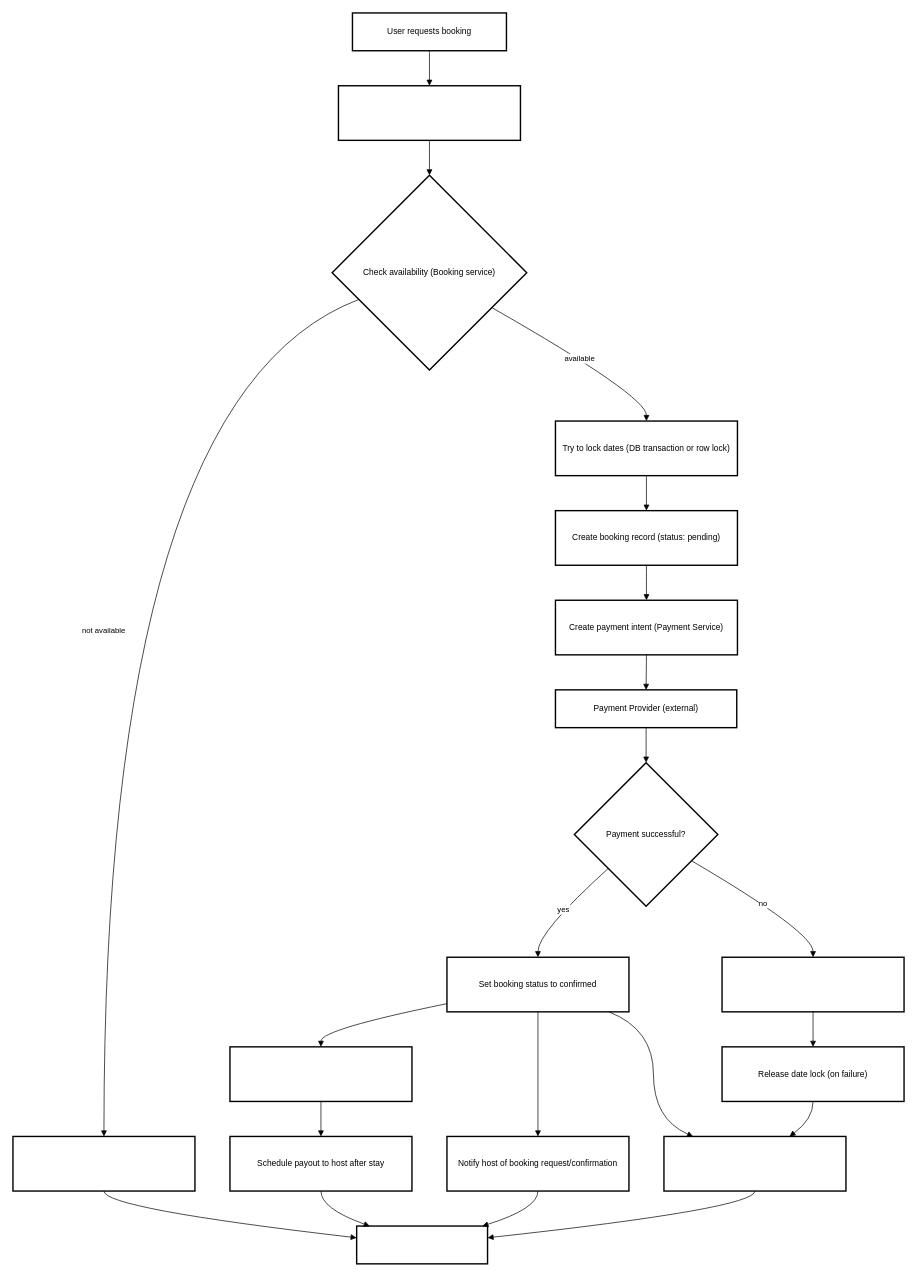
The diagram is 916 pixels wide and 1276 high, and some of its shapes have lost their labels. The shapes that lost their labels are listed below. From the top down, each one's centre as x and y in pixels, then its label:
At pixel 429 113: "User searches and selects property".
At pixel 812 984: "Trigger refund or mark payment failed".
At pixel 320 1074: "Update property availability calendar".
At pixel 103 1163: "Notify guest: dates unavailable".
At pixel 754 1163: "Notify guest of confirmation or failure".
At pixel 422 1244: "Process complete".
